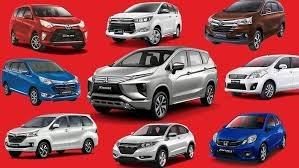mobil: (90, 49, 217, 121), (197, 1, 290, 49), (3, 112, 99, 158), (212, 111, 289, 168), (109, 123, 203, 168), (7, 3, 91, 50), (4, 57, 85, 104), (223, 53, 299, 100), (105, 2, 186, 46)
